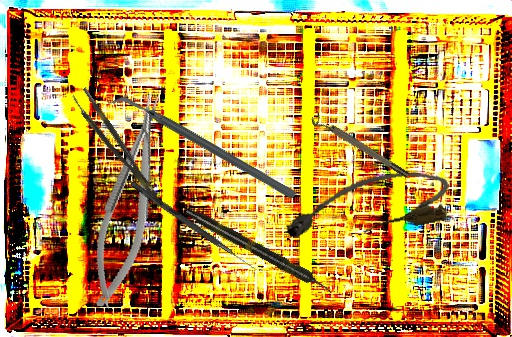Cannula: (279, 163, 455, 249)
Chopper: (106, 42, 300, 253)
Fixation Ring: (309, 110, 411, 184)
Handpiece: (183, 204, 335, 298)
Hook Surgical: (129, 181, 259, 272)
Needle Holder: (78, 90, 182, 313)
Tissue Forceps: (70, 86, 159, 205)
